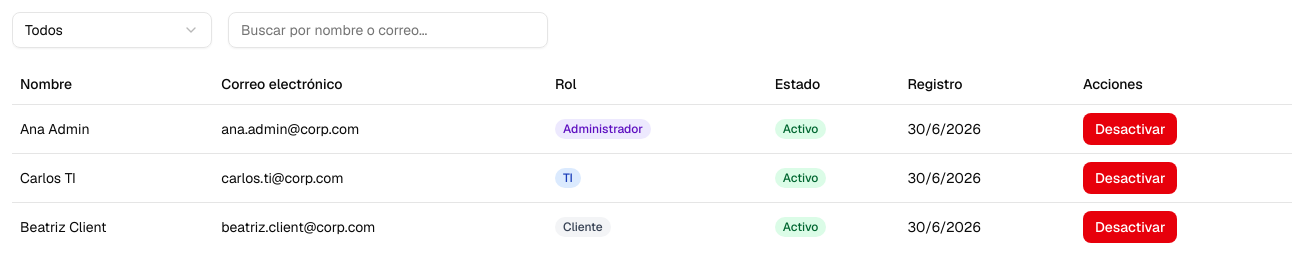
UsersTable — filter panel › filters search by email case-insensitively (Scenario U-5)
Type "GARCIA" into the search field with placeholder "Buscar por nombre o correo..." at (388, 30), box [228, 12, 548, 48]
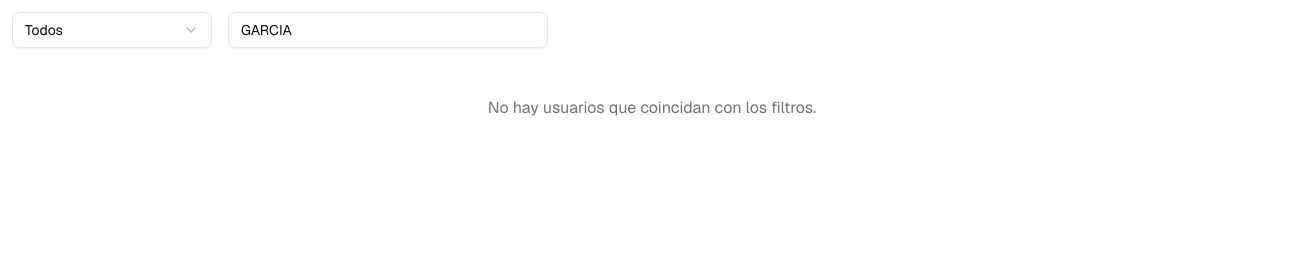
Result: the text "No hay usuarios que coincidan con los filtros." is shown at [488, 97, 816, 118]
